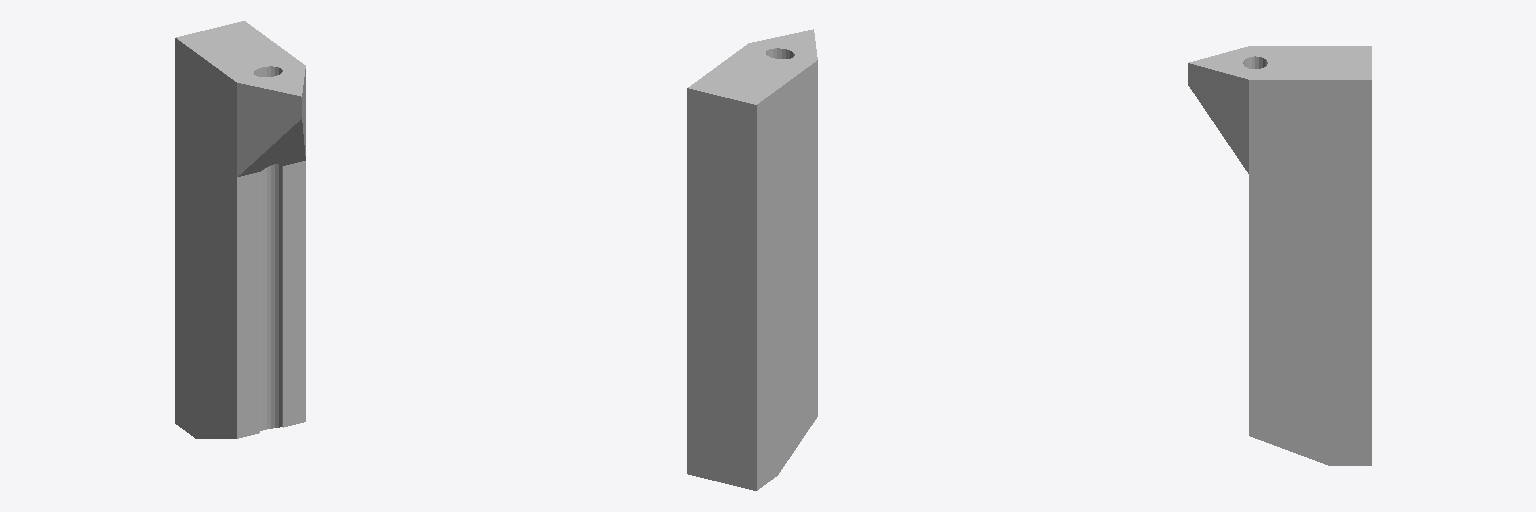
The model's file is Alt_Sharp.obj.
3 renders of one model, left to right at view 1: azimuth 30°, elevation 25°; view 2: azimuth 150°, elevation 25°; view 3: azimuth 270°, elevation 25°, orthographic.
Visible parts, largest first — view 1: obj_0; view 2: obj_0; view 3: obj_0.
Part boxes in pixels (left/top/right/bottom): obj_0: left=175, top=21, right=305, bottom=438; obj_0: left=687, top=29, right=817, bottom=490; obj_0: left=1188, top=46, right=1371, bottom=465.
Bounding box in the file's own units: 13 × 69.37 × 30.